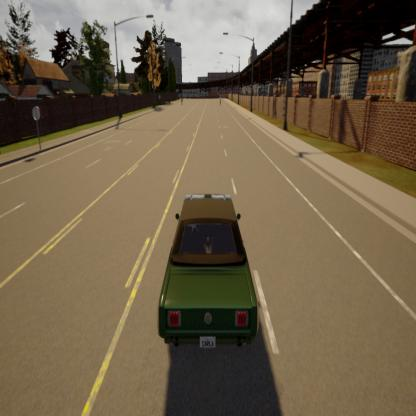Cars: (151, 184, 266, 362)
